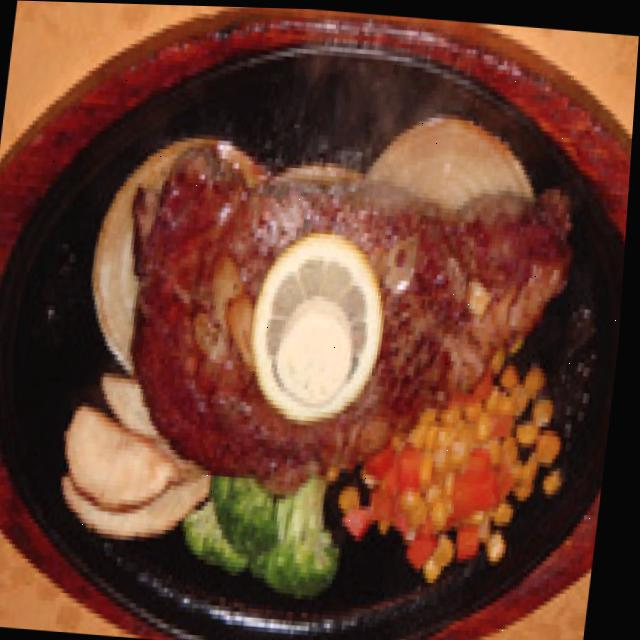牛肉菜式: (98, 118, 587, 521)
